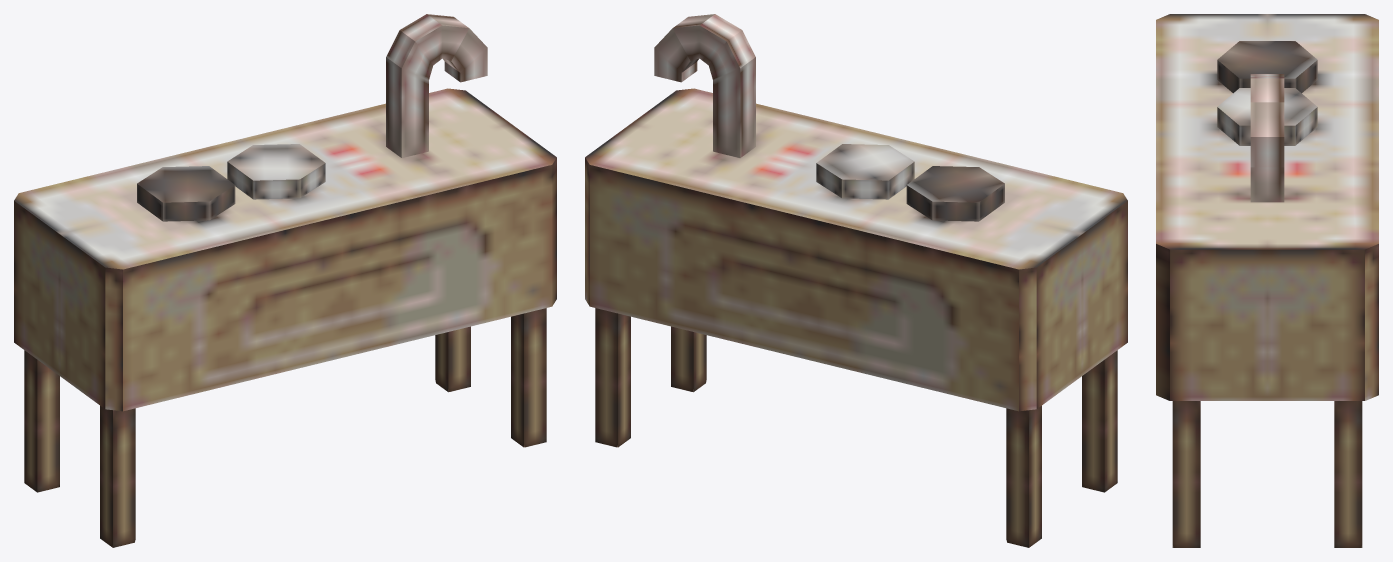
Rendered from Poly_SF_Outside_B_Small_Fuel_Tank_01.obj.
3 renders of one model, left to right at view 1: azimuth 30°, elevation 25°; view 2: azimuth 150°, elevation 25°; view 3: azimuth 270°, elevation 25°, orthographic. The views are drawn at different scales.
Visible parts, largest first — view 1: Cube.004, Cube.001; view 2: Cube.004, Cube.001; view 3: Cube.004, Cube.001.
Part boxes in pixels (<box>): Cube.004: <box>14,14,556,411</box>; Cube.001: <box>24,308,546,547</box>; Cube.004: <box>585,14,1127,411</box>; Cube.001: <box>595,308,1117,547</box>; Cube.004: <box>1156,14,1378,400</box>; Cube.001: <box>1172,401,1362,547</box>.
Bounding box in the file's own units: 1 × 0.86 × 0.4.
1 material, 1 textured.
